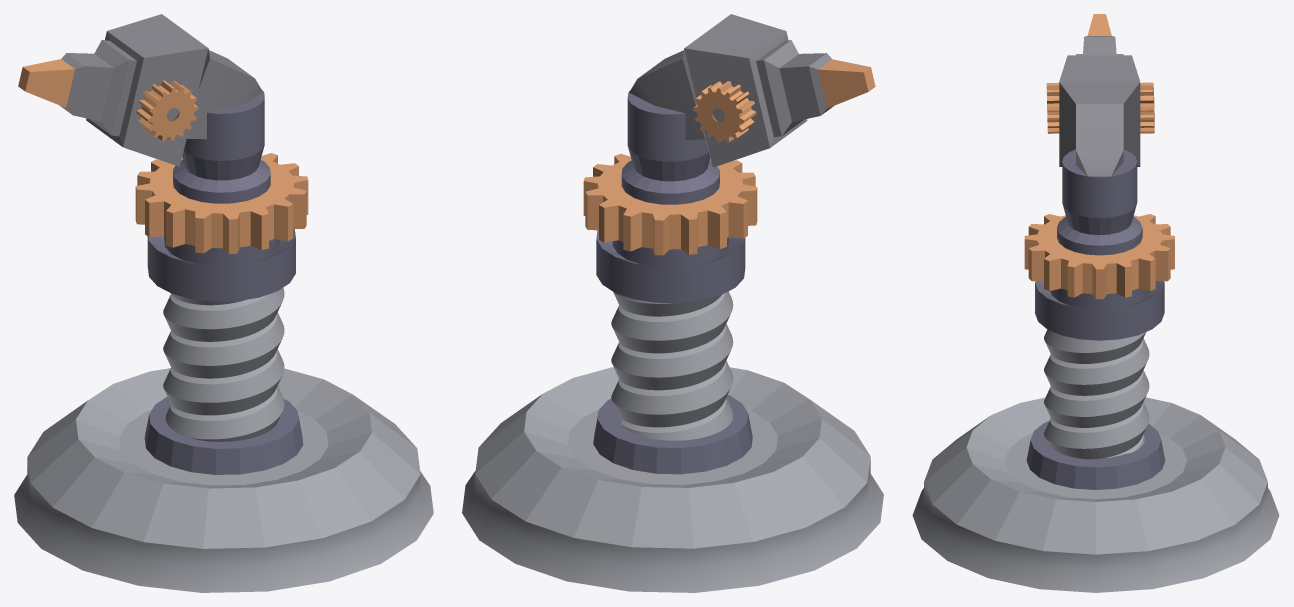
File: tchik_tchik_tchik.fbx
The picture shows the model from 3 angles, left to right: view 1: azimuth 30°, elevation 25°; view 2: azimuth 150°, elevation 25°; view 3: azimuth 270°, elevation 25°; orthographic projection. The views are drawn at different scales.
Visible parts, largest first — view 1: pGear4; view 2: pGear4; view 3: pGear4.
Boxes of the visible parts, bbox=[...] form: pGear4: bbox=[14, 14, 433, 592]; pGear4: bbox=[462, 14, 883, 592]; pGear4: bbox=[912, 14, 1279, 592].
Size of the model in its own units: 13.45 by 16.17 by 12.83.
